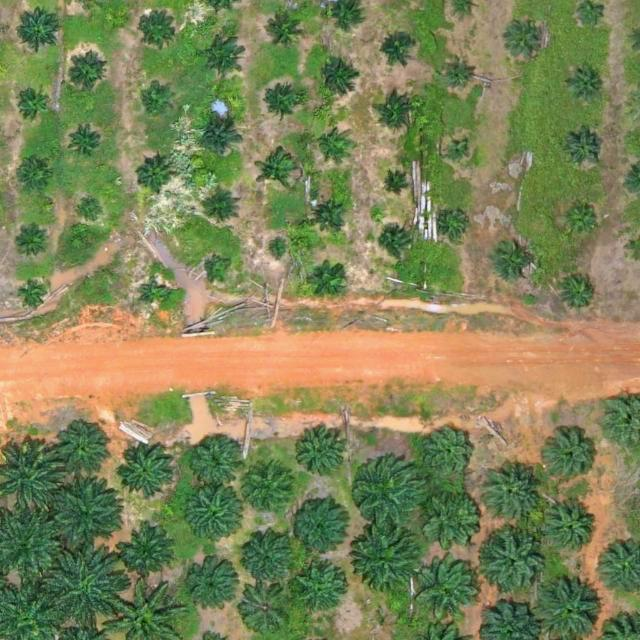Kelapa_Sawit: (44, 473, 122, 551), (41, 549, 119, 627), (350, 453, 428, 531), (478, 529, 548, 599), (480, 461, 542, 524), (419, 558, 481, 621), (358, 527, 420, 590), (421, 481, 483, 543), (538, 499, 593, 554), (184, 489, 239, 544), (188, 561, 243, 616), (186, 431, 240, 486), (240, 528, 294, 583), (544, 429, 598, 484), (55, 425, 109, 480), (120, 522, 174, 577), (117, 441, 171, 496), (237, 578, 291, 633), (242, 460, 296, 515), (296, 424, 350, 479), (291, 499, 345, 554), (294, 566, 348, 621), (422, 427, 476, 482), (259, 85, 305, 132), (198, 34, 244, 81), (261, 6, 307, 53), (491, 236, 537, 283), (254, 148, 300, 195), (15, 1, 61, 47), (197, 116, 243, 162), (510, 18, 549, 57), (65, 54, 104, 93), (68, 121, 107, 160), (310, 259, 349, 298), (202, 190, 241, 229), (310, 193, 349, 232), (135, 158, 174, 197), (564, 63, 603, 102), (564, 128, 603, 167), (560, 273, 599, 312), (560, 200, 599, 239), (378, 91, 416, 130), (377, 29, 415, 68), (139, 10, 177, 49), (318, 57, 357, 95), (15, 88, 46, 119), (315, 126, 346, 157), (140, 84, 171, 115), (15, 228, 46, 259), (18, 159, 49, 190), (378, 228, 409, 259), (441, 207, 472, 238), (442, 56, 473, 87), (205, 252, 236, 283), (139, 278, 170, 309), (76, 195, 107, 226), (18, 278, 49, 309), (447, 142, 470, 165), (381, 174, 404, 197), (265, 238, 288, 261)
